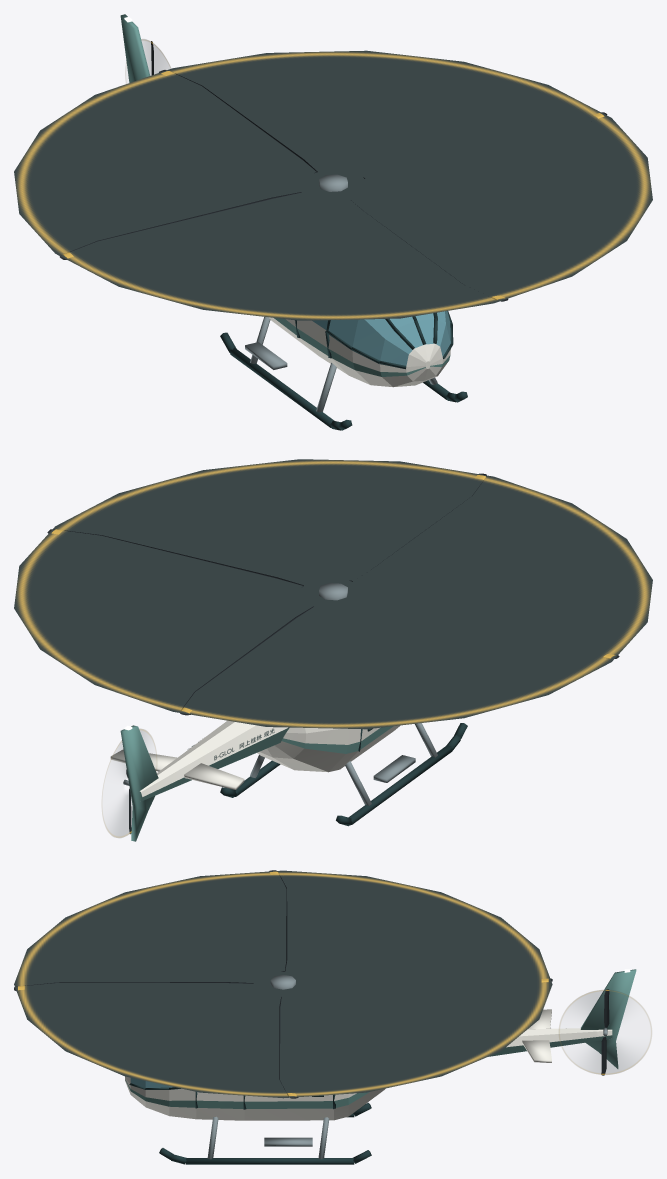
File: helicopter_tour_lod1.glb
The picture shows the model from 3 angles, top to bottom: view 1: azimuth 30°, elevation 25°; view 2: azimuth 150°, elevation 25°; view 3: azimuth 270°, elevation 25°; orthographic projection. The views are drawn at different scales.
Parts seen in each view (by area): view 1: rotor_blur_main, airframe, rotor_main, door_front_R; view 2: rotor_blur_main, airframe, rotor_main, rotor_blur_tail, step_R; view 3: rotor_blur_main, airframe, rotor_blur_tail, door_L, rotor_main, door_front_L, step_L, rotor_tail.
Boxes of the visible parts, left/top/right/bottom form: rotor_blur_main: left=14, top=50, right=652, bottom=320; airframe: left=120, top=14, right=467, bottom=430; rotor_main: left=59, top=70, right=607, bottom=301; door_front_R: left=297, top=320, right=327, bottom=355; rotor_blur_main: left=14, top=459, right=652, bottom=729; airframe: left=110, top=720, right=467, bottom=841; rotor_main: left=47, top=473, right=619, bottom=715; rotor_blur_tail: left=102, top=729, right=156, bottom=837; step_R: left=373, top=755, right=415, bottom=782; rotor_blur_main: left=14, top=870, right=552, bottom=1098; airframe: left=125, top=969, right=636, bottom=1164; rotor_blur_tail: left=559, top=990, right=651, bottom=1074; door_L: left=243, top=1094, right=335, bottom=1109; rotor_main: left=14, top=870, right=552, bottom=1098; door_front_L: left=196, top=1092, right=243, bottom=1108; step_L: left=264, top=1137, right=312, bottom=1146; rotor_tail: left=601, top=989, right=609, bottom=1075.
Size of the model in its own units: 10.3 by 3.6 by 12.22.
Materials: 13 (3 with a texture image).
